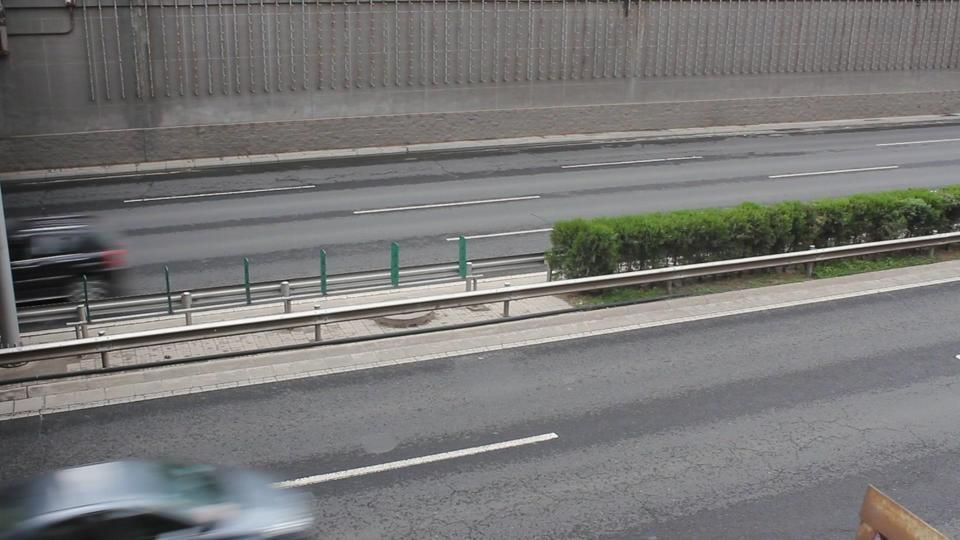car: (2, 458, 321, 538), (4, 220, 129, 288)
